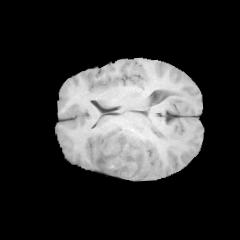glioma: (87, 126, 150, 180)
